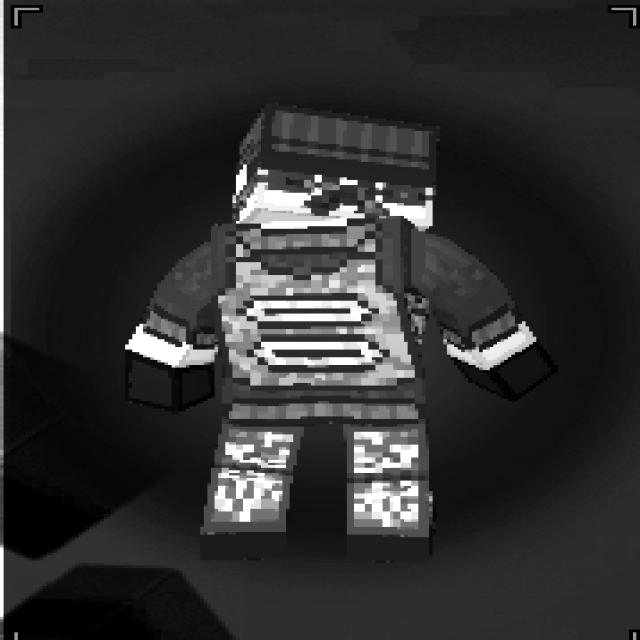Head: (229, 100, 440, 229)
Player: (122, 99, 558, 562)
